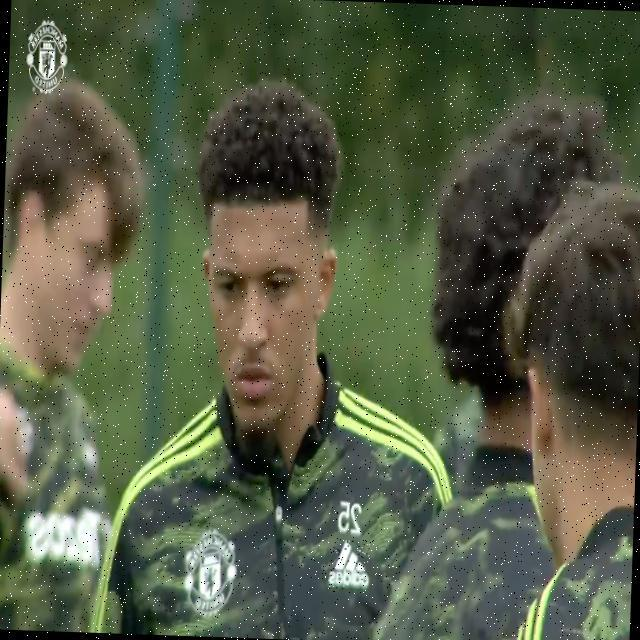Adidas: (327, 539, 370, 590)
